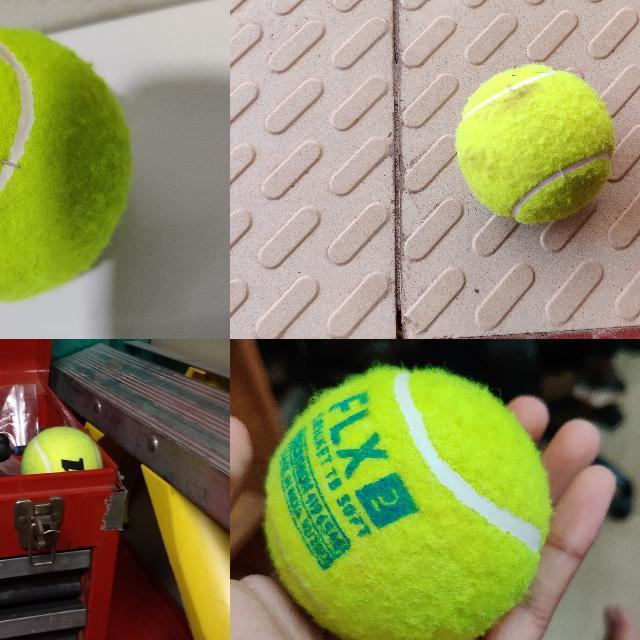tennis-ball: (265, 369, 550, 639), (0, 25, 133, 304), (454, 65, 614, 224), (21, 426, 104, 466)
